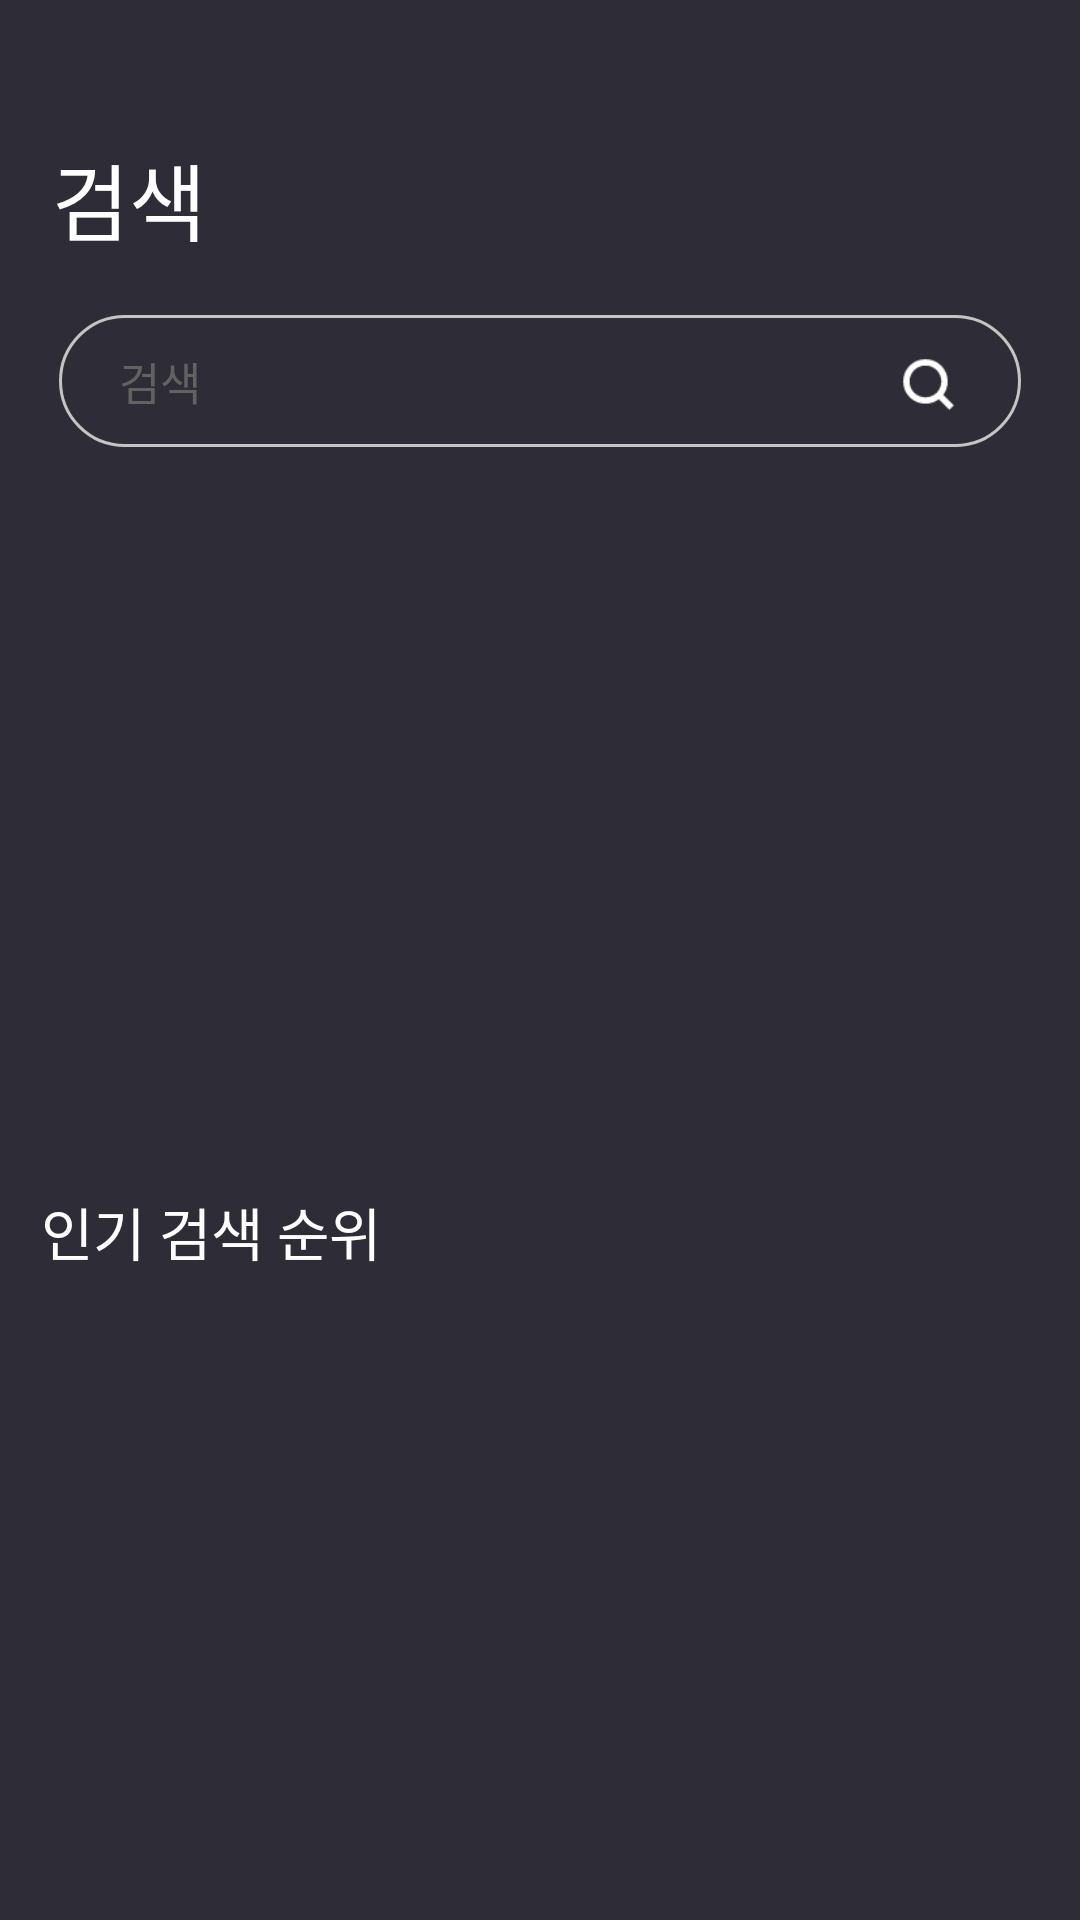

Screen size 1080px×1920px. Icon name, then its center in pixels as (x,y):
search off edittext resize: (928,384)
